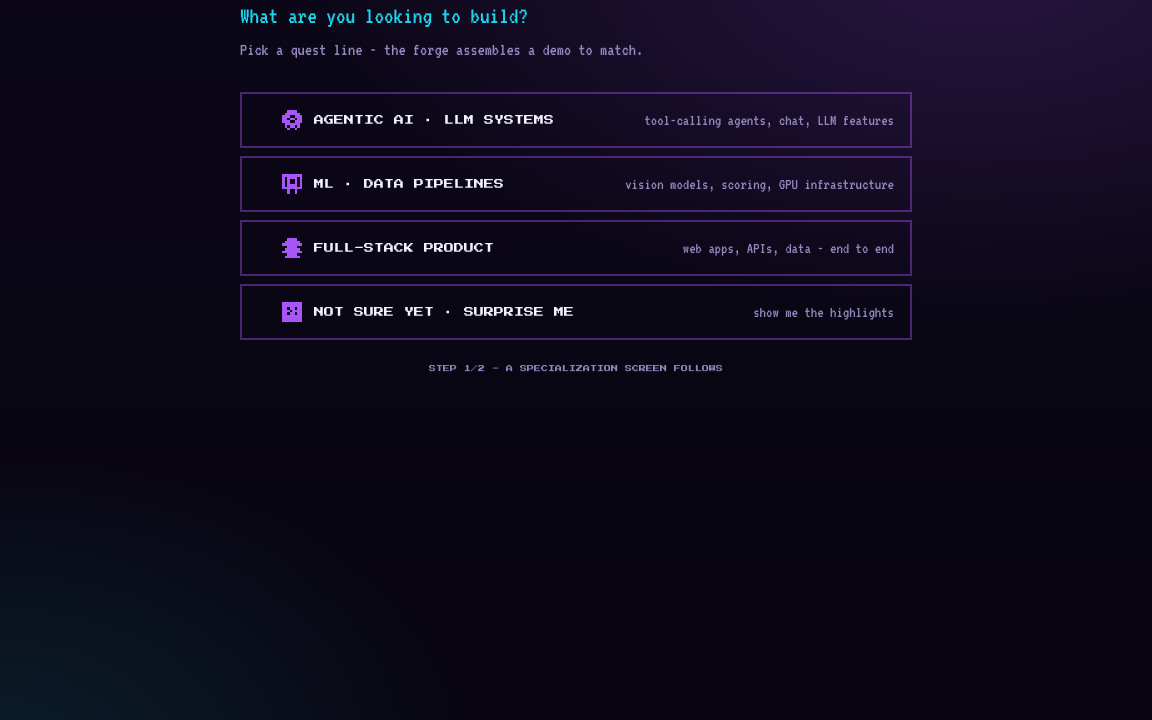
Test case: BACK returns from the specialization screen to categories
Step 1. Click the button "AGENTIC AI · LLM SYSTEMS" → (434, 120), box [240,92,912,148]
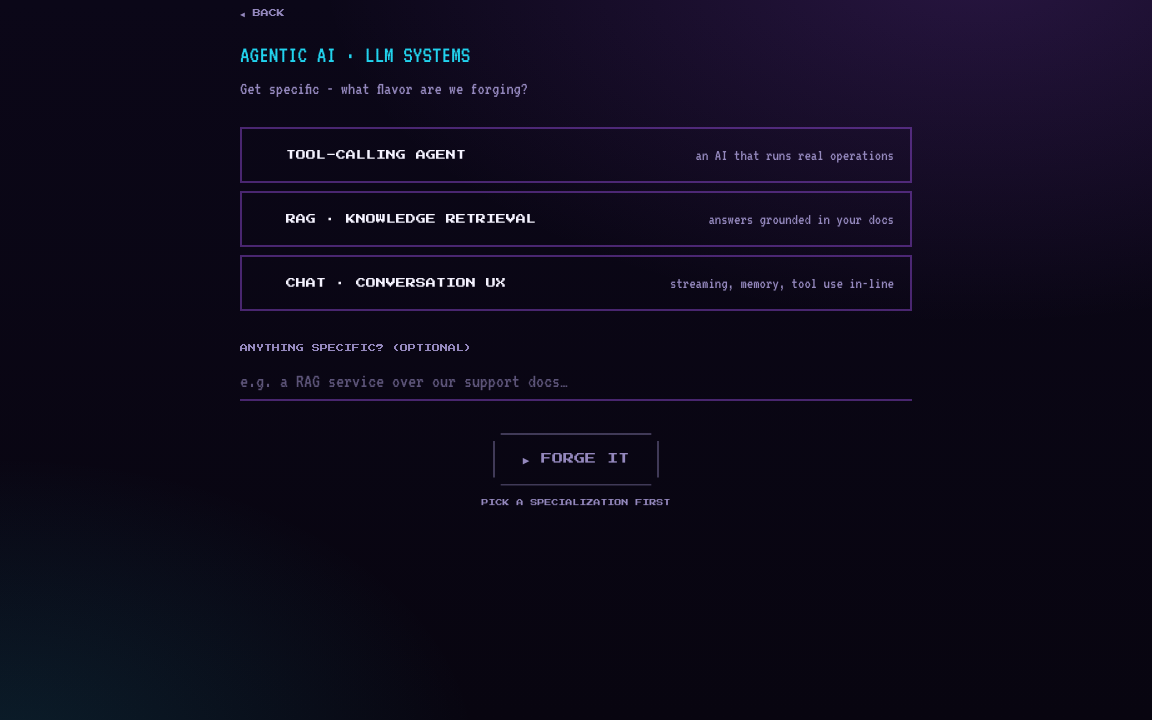
Step 2. Click the button "◀ BACK" → (262, 13), box [240,7,285,19]
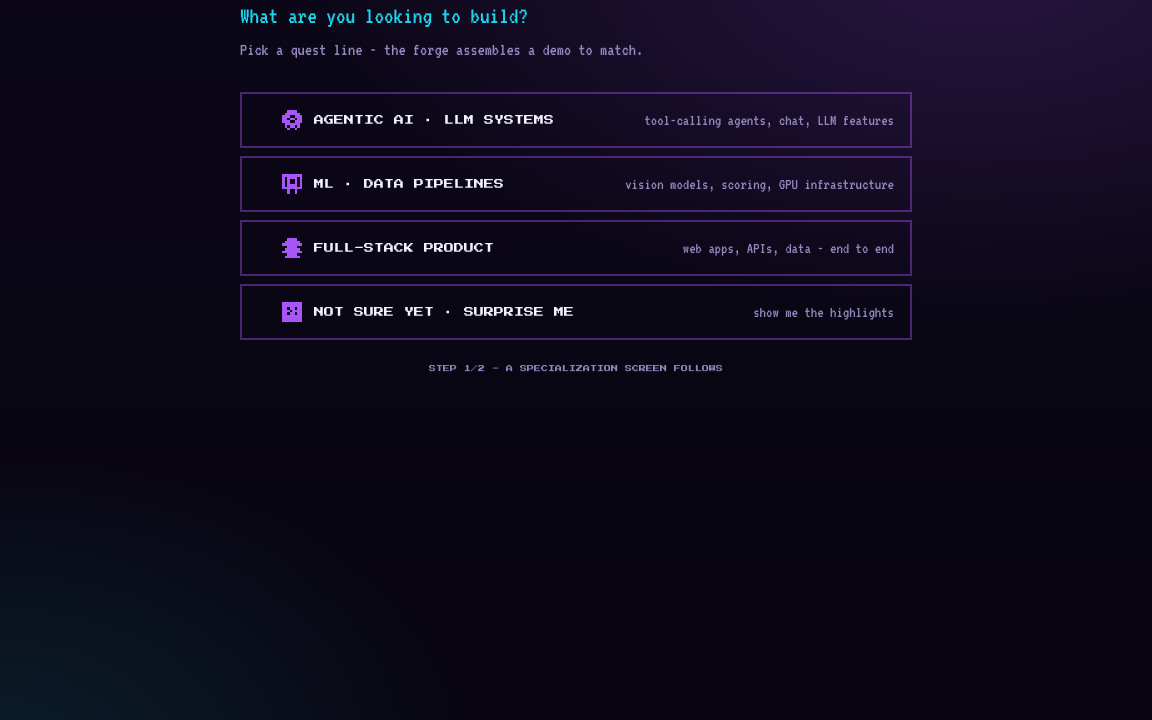
Now the text "What are you looking to build?" is shown, box [240,4,528,28]
